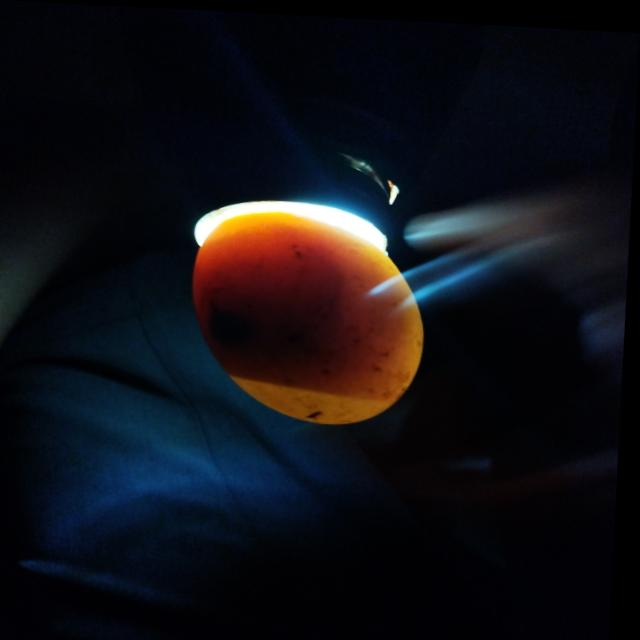Area Infectada: (203, 248, 349, 378)
